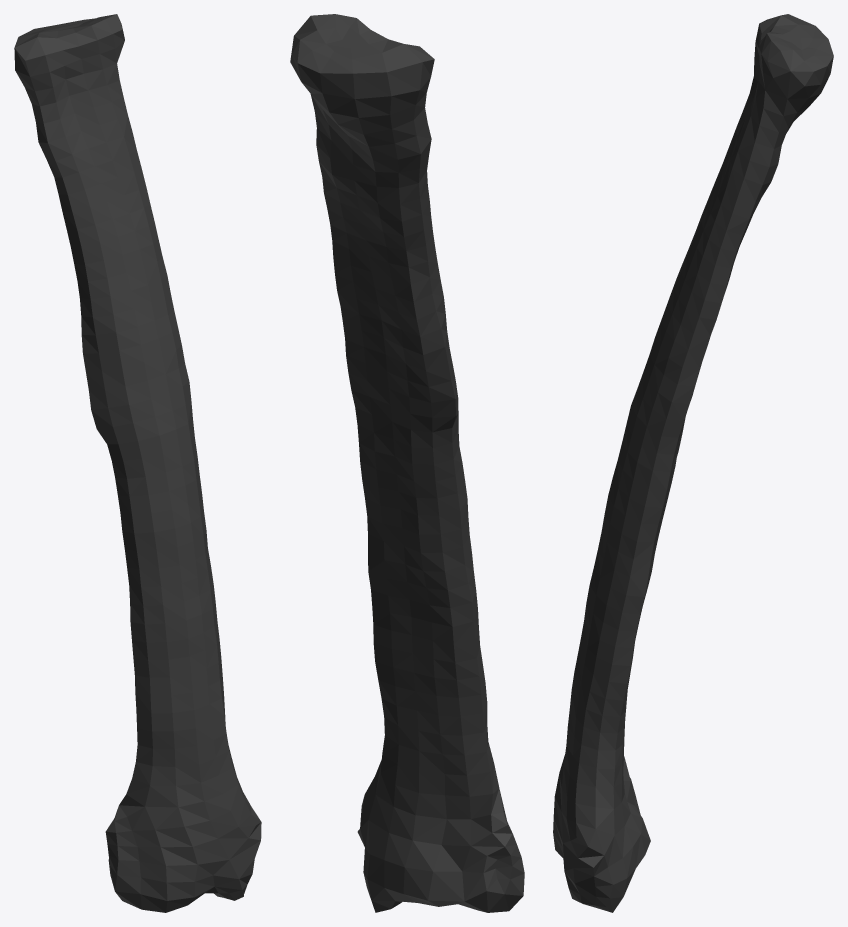
File: Radius_R.glb
3 renders of one model, left to right at view 1: azimuth 30°, elevation 25°; view 2: azimuth 150°, elevation 25°; view 3: azimuth 270°, elevation 25°, orthographic. The views are drawn at different scales.
Parts seen in each view (by area): view 1: Radius_R; view 2: Radius_R; view 3: Radius_R.
Part boxes in pixels (x1,y1,x2,y2): Radius_R: (14, 14, 261, 912); Radius_R: (290, 14, 524, 912); Radius_R: (553, 14, 833, 912).
Size of the model in its own units: 1.74 by 9.16 by 2.74.
Materials: 1 (1 with a texture image).
